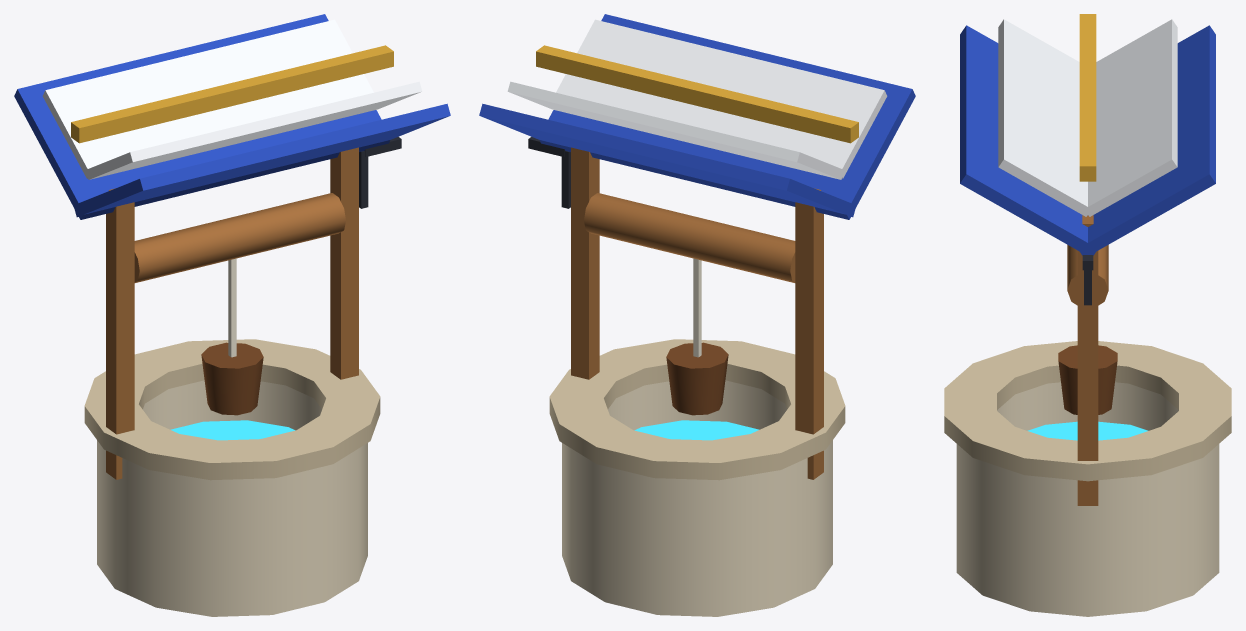
Rendered from prop-well.glb.
The picture shows the model from 3 angles, left to right: view 1: azimuth 30°, elevation 25°; view 2: azimuth 150°, elevation 25°; view 3: azimuth 270°, elevation 25°; orthographic projection.
Visible parts, largest first — view 1: well_g_stone, well_g_stoneShade, well_g_slate, snow_well_1, well_g_wood, crank_g_wood, well_g_gold, snow_well_0, bucket_g_woodDark, well_g_liquid, crank_g_iron, bucket_g_paper; view 2: well_g_stone, well_g_stoneShade, well_g_slate, snow_well_0, well_g_wood, crank_g_wood, well_g_gold, snow_well_1, bucket_g_woodDark, well_g_liquid, crank_g_iron, bucket_g_paper; view 3: well_g_stone, well_g_stoneShade, well_g_slate, snow_well_0, snow_well_1, well_g_wood, well_g_gold, bucket_g_woodDark, well_g_liquid, crank_g_wood, crank_g_iron.
Part boxes in pixels (<box>): well_g_stone: <box>97,380,367,616</box>; well_g_stoneShade: <box>84,339,380,480</box>; well_g_slate: <box>14,14,450,219</box>; snow_well_1: <box>42,19,373,178</box>; well_g_wood: <box>106,147,358,479</box>; crank_g_wood: <box>134,193,345,282</box>; well_g_gold: <box>71,45,393,143</box>; snow_well_0: <box>86,81,422,179</box>; bucket_g_woodDark: <box>201,342,263,415</box>; well_g_liquid: <box>170,420,295,440</box>; crank_g_iron: <box>359,137,401,208</box>; bucket_g_paper: <box>228,258,236,357</box>; well_g_stone: <box>562,380,832,616</box>; well_g_stoneShade: <box>549,339,845,480</box>; well_g_slate: <box>479,14,915,219</box>; snow_well_0: <box>556,19,887,178</box>; well_g_wood: <box>571,147,823,479</box>; crank_g_wood: <box>584,193,795,282</box>; well_g_gold: <box>536,45,858,143</box>; snow_well_1: <box>507,81,843,179</box>; bucket_g_woodDark: <box>666,342,728,415</box>; well_g_liquid: <box>634,420,759,440</box>; crank_g_iron: <box>528,137,570,208</box>; bucket_g_paper: <box>693,258,701,357</box>; well_g_stone: <box>956,382,1219,616</box>; well_g_stoneShade: <box>944,341,1231,481</box>; well_g_slate: <box>960,25,1215,255</box>; snow_well_0: <box>998,19,1091,216</box>; snow_well_1: <box>1085,19,1177,216</box>; well_g_wood: <box>1077,215,1098,505</box>; well_g_gold: <box>1079,14,1096,181</box>; bucket_g_woodDark: <box>1058,345,1117,414</box>; well_g_liquid: <box>1027,421,1148,440</box>; crank_g_wood: <box>1067,245,1108,305</box>; crank_g_iron: <box>1082,255,1093,305</box>.
Size of the model in its own units: 1.79 by 2.5 by 1.38.
